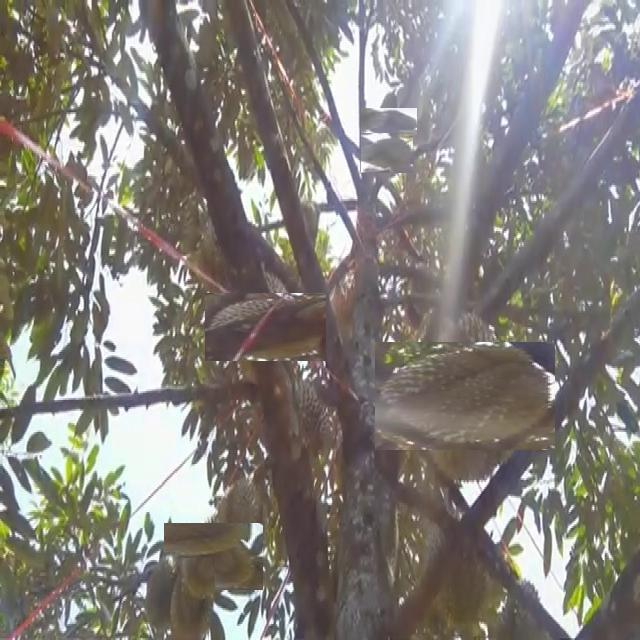durian: (393, 324, 538, 469), (418, 512, 508, 632), (252, 358, 340, 465), (219, 279, 313, 375), (213, 470, 272, 598), (172, 515, 255, 599), (166, 558, 215, 638), (141, 552, 178, 632), (486, 597, 554, 638), (364, 130, 410, 177), (368, 100, 410, 142), (295, 194, 321, 255)
